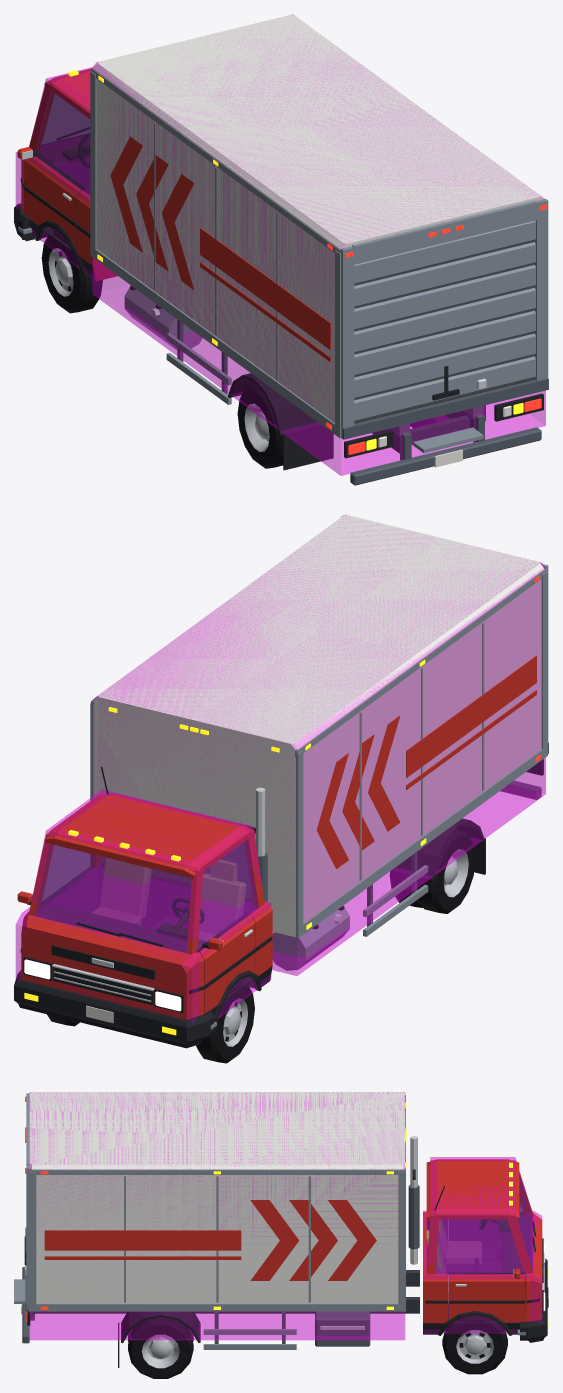
File: box_truck.glb
The picture shows the model from 3 angles, top to bottom: view 1: azimuth 30°, elevation 25°; view 2: azimuth 150°, elevation 25°; view 3: azimuth 270°, elevation 25°; orthographic projection. The views are drawn at different scales.
Parts seen in each view (by area): view 1: Body, Trunk, Col_Box, Col_Cabin, Glass_L, Door_FL, Wheel_FL, Wheel_RL, Col_Body, Glass_Windshield; view 2: Body, Col_Box, Col_Cabin, Glass_Windshield, Glass_L, Wheel_RL, Door_FL, Col_Body, Wheel_FL, Glass_R, Door_FR, Glass_Rear; view 3: Body, Col_Box, Col_Cabin, Glass_R, Door_FR, Wheel_RR, Wheel_FR, Col_Body, Door_FL, Glass_Windshield.
Part boxes in pixels (x1,y1,x2,y2): Body: [14, 15, 548, 485]; Trunk: [354, 221, 535, 422]; Col_Box: [92, 14, 545, 475]; Col_Cabin: [31, 67, 93, 195]; Glass_L: [35, 92, 89, 194]; Door_FL: [17, 147, 85, 249]; Wheel_FL: [41, 229, 102, 313]; Wheel_RL: [237, 384, 283, 468]; Col_Body: [15, 152, 94, 279]; Glass_Windshield: [42, 94, 89, 144]; Body: [14, 515, 548, 1048]; Col_Box: [92, 514, 545, 975]; Col_Cabin: [31, 789, 262, 952]; Glass_Windshield: [34, 844, 191, 952]; Glass_L: [196, 840, 257, 951]; Wheel_RL: [389, 829, 475, 913]; Door_FL: [197, 913, 256, 1013]; Col_Body: [15, 901, 271, 1024]; Wheel_FL: [196, 979, 254, 1063]; Glass_R: [42, 845, 91, 903]; Door_FR: [17, 874, 85, 914]; Glass_Rear: [101, 843, 251, 900]; Body: [14, 1092, 548, 1367]; Col_Box: [29, 1092, 405, 1340]; Col_Cabin: [427, 1157, 532, 1275]; Glass_R: [436, 1219, 527, 1273]; Door_FR: [449, 1268, 525, 1322]; Wheel_RR: [128, 1317, 193, 1378]; Wheel_FR: [442, 1315, 507, 1374]; Col_Body: [423, 1210, 542, 1333]; Door_FL: [449, 1213, 523, 1247]; Glass_Windshield: [517, 1178, 531, 1266].
Size of what is drawn, in the model's own units: 2.45 by 3.19 by 7.18.
